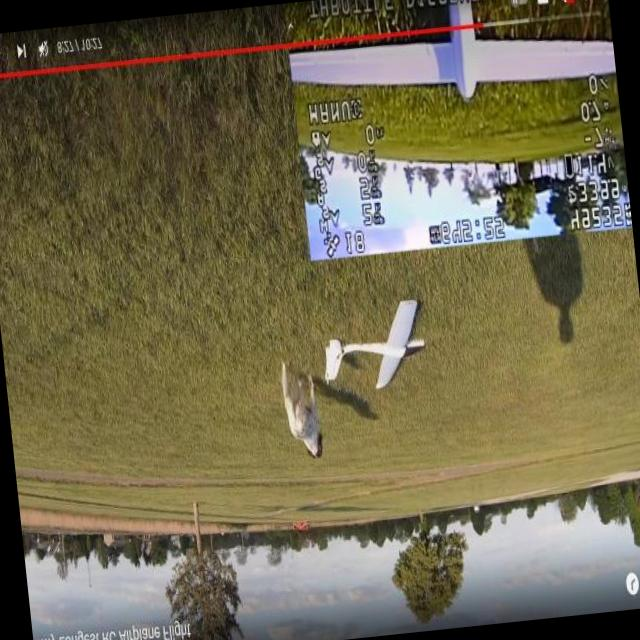UAV: (315, 15, 608, 170), (316, 294, 451, 398)
